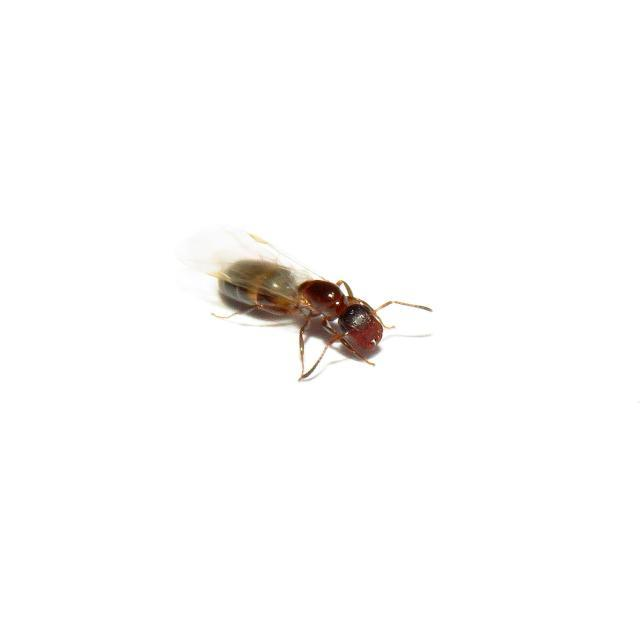Colobopsis: (195, 236, 425, 370)
